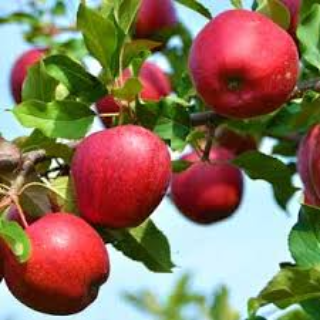tao: (186, 7, 304, 122), (66, 121, 176, 233), (4, 211, 113, 316)
